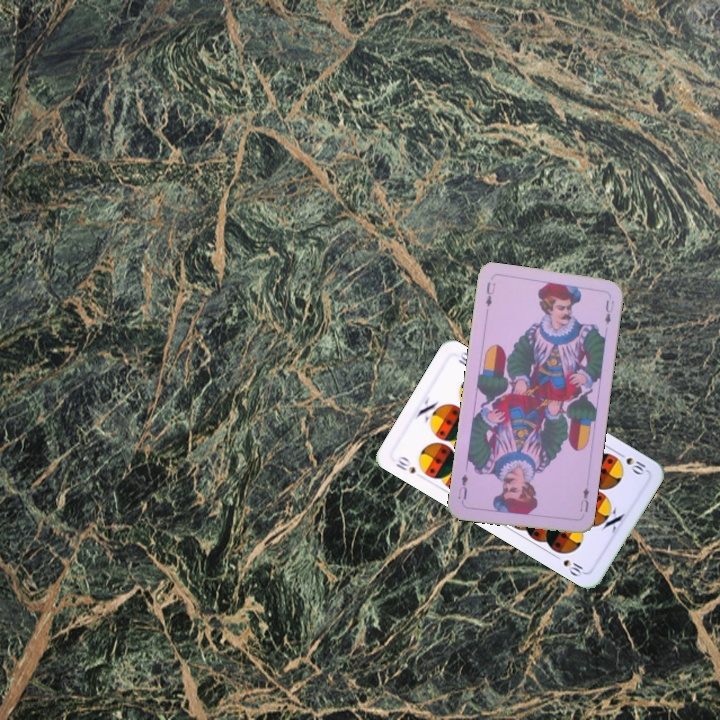EU: (481, 278, 498, 309), (576, 483, 592, 514)
S10: (613, 448, 648, 477), (391, 452, 418, 476)
